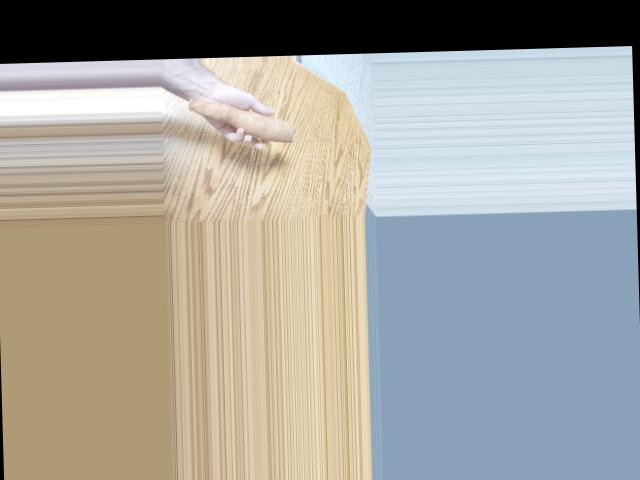sweet_potato: (190, 93, 295, 148)
